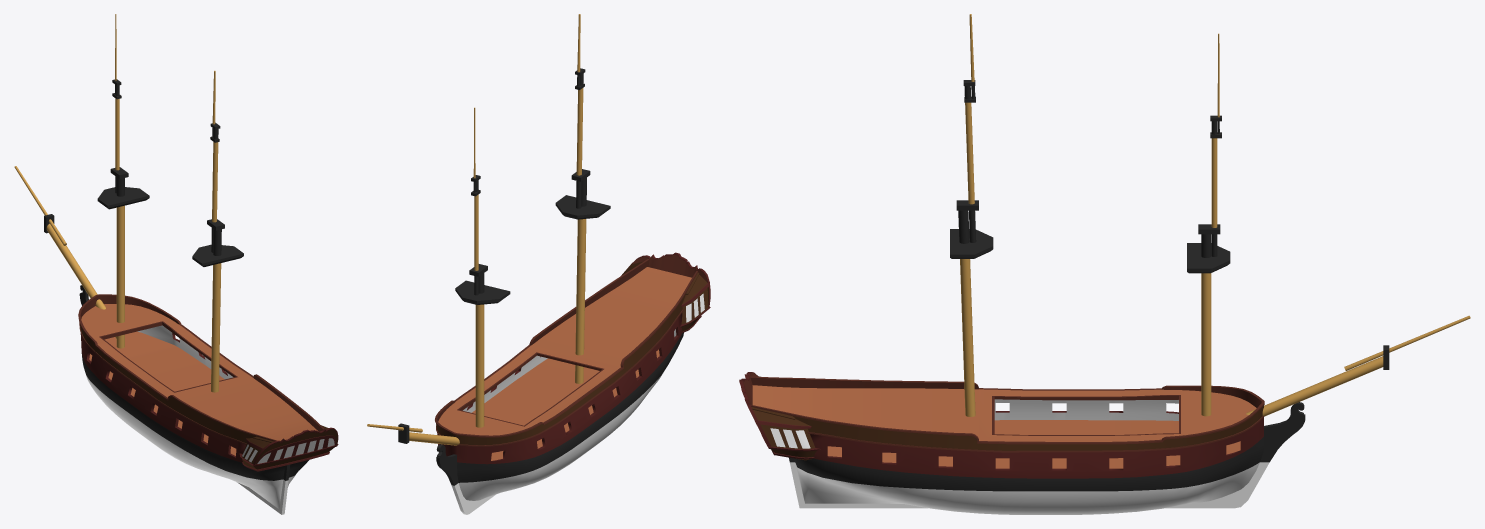
File: Ship_test2.fbx
3 renders of one model, left to right at view 1: azimuth 30°, elevation 25°; view 2: azimuth 150°, elevation 25°; view 3: azimuth 270°, elevation 25°, orthographic. The views are drawn at different scales.
Visible parts, largest first — view 1: Hull, Mainmast, Foremast, Cabin, Bowsprit; view 2: Hull, Mainmast, Foremast, Cabin, Bowsprit; view 3: Hull, Mainmast, Foremast, Cabin, Bowsprit.
Boxes of the visible parts, x1,y1,x2,y2 form: Hull: [78, 285, 323, 514]; Mainmast: [192, 70, 243, 392]; Foremast: [97, 14, 149, 348]; Cabin: [239, 425, 338, 471]; Bowsprit: [14, 166, 116, 338]; Hull: [435, 259, 697, 514]; Mainmast: [555, 14, 610, 383]; Foremast: [455, 107, 510, 427]; Cabin: [621, 252, 710, 332]; Bowsprit: [367, 423, 459, 445]; Hull: [750, 376, 1305, 514]; Mainmast: [950, 14, 993, 416]; Foremast: [1187, 33, 1230, 416]; Cabin: [739, 372, 820, 460]; Bowsprit: [1246, 315, 1470, 416].
Bounding box in the file's own units: 898 × 3378 × 4542.
